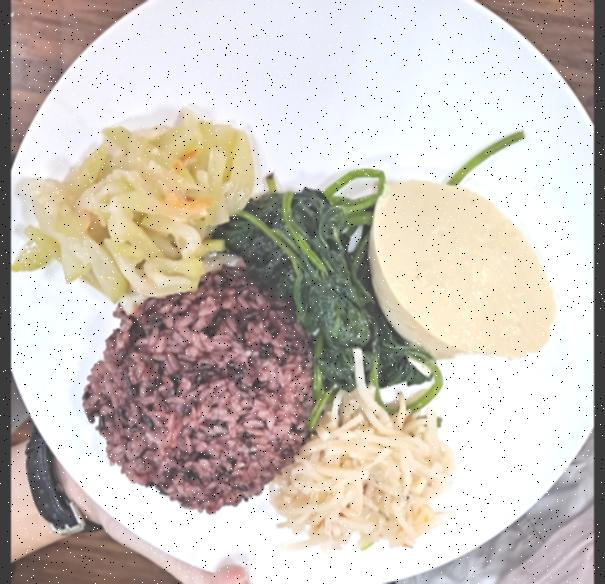big fried chicken leg: (13, 0, 588, 584)
braised fish: (84, 272, 312, 514)
braised fish fillet: (11, 105, 268, 296), (359, 160, 567, 382), (276, 385, 459, 558), (251, 180, 398, 382)
